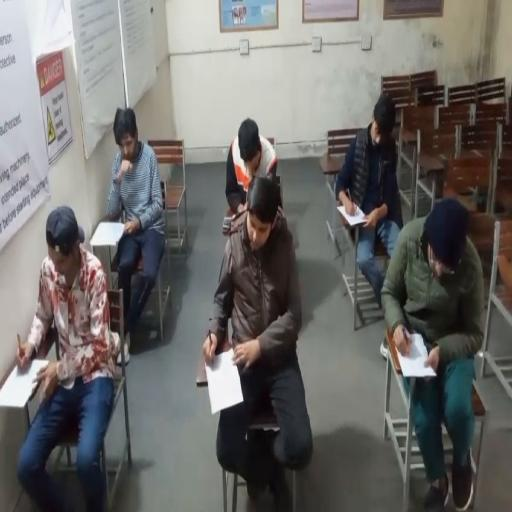paper: (206, 347, 246, 409), (0, 358, 49, 407), (398, 332, 436, 378), (90, 221, 125, 249), (336, 202, 368, 226)
